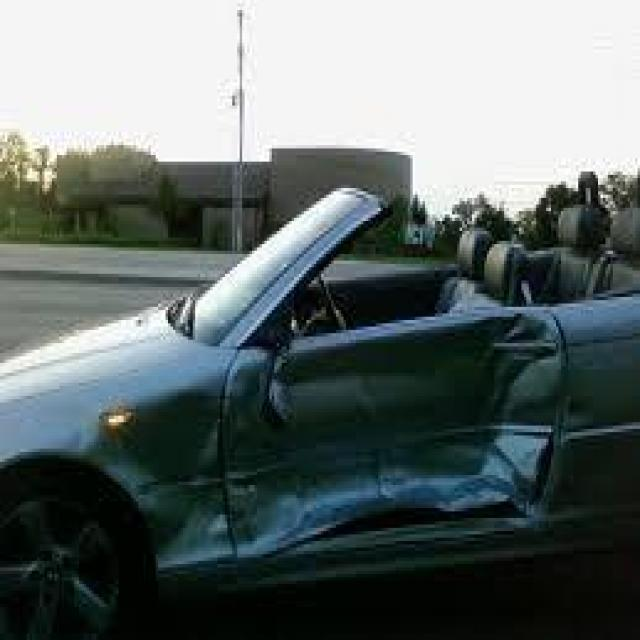damaged: (124, 307, 554, 567)
